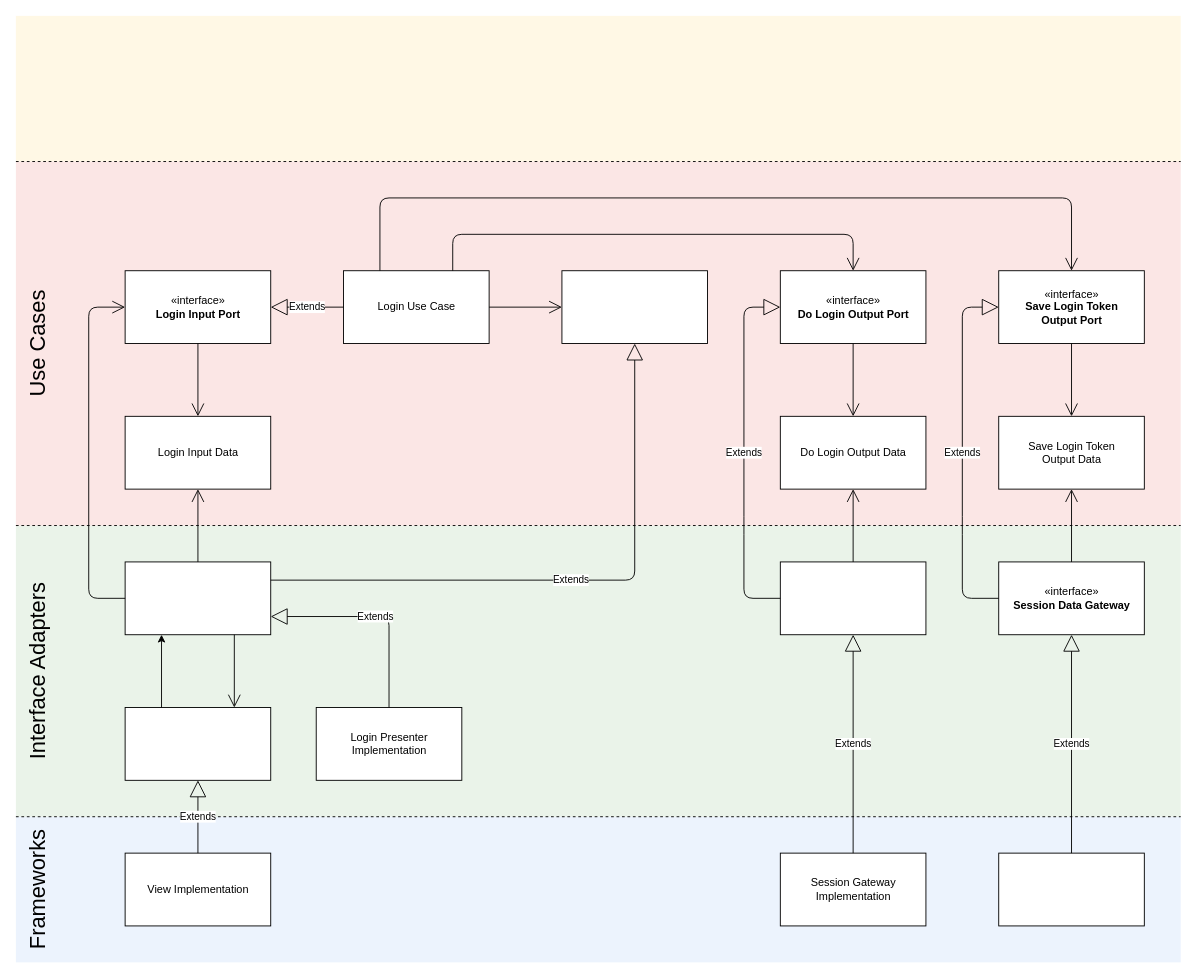
This 1198x977 diagram has some shape labels left out. The shapes that lost their labels are listed below. From the top down, each one's centre as x and y in pixels, then its label:
At point 597,88: "Entities".
At point 634,307: "«interface» On Login Output Port".
At point 197,598: "«interface» Login Presenter".
At point 852,598: "«interface» Session Gateway".
At point 197,743: "«interface» View".
At point 1071,889: "Session Data Gateway Implementation".
